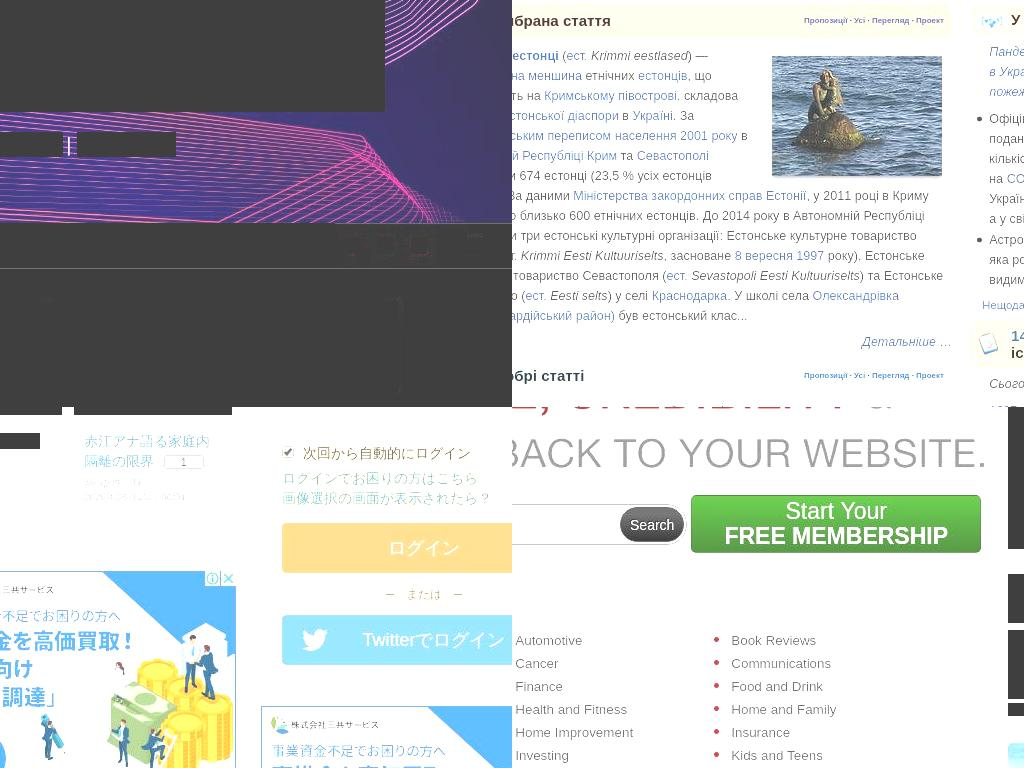button: (691, 495, 982, 554), (282, 615, 512, 665), (515, 629, 717, 653), (731, 629, 933, 653), (515, 652, 717, 676), (731, 652, 933, 676), (515, 675, 717, 699), (731, 675, 933, 699), (515, 698, 717, 722), (731, 698, 933, 722), (515, 721, 717, 745), (731, 721, 933, 745), (515, 744, 717, 768), (731, 744, 933, 768), (172, 223, 261, 268), (87, 223, 173, 268), (260, 223, 335, 268), (27, 223, 88, 268), (620, 507, 685, 543), (1008, 407, 1024, 467), (1008, 574, 1024, 623), (163, 455, 204, 471), (1008, 703, 1024, 716)
field: (282, 523, 512, 573), (284, 407, 512, 428), (512, 505, 597, 540), (282, 446, 295, 460)
heading: (512, 599, 986, 630)
iframe: (0, 571, 236, 768), (0, 301, 399, 392), (261, 706, 512, 768)
image: (0, 0, 385, 112), (772, 55, 942, 176), (1008, 407, 1024, 467), (1008, 574, 1024, 623), (977, 332, 1000, 356), (977, 13, 1007, 30), (345, 237, 362, 254), (377, 237, 394, 254), (411, 237, 427, 254), (467, 238, 483, 255), (8, 245, 16, 253), (315, 245, 323, 253)
label: (303, 445, 471, 461)
link: (512, 288, 899, 323), (84, 433, 210, 469), (573, 188, 807, 203), (512, 128, 738, 143), (282, 490, 492, 506), (282, 470, 478, 486), (77, 132, 176, 157), (544, 88, 678, 103), (512, 108, 620, 123), (512, 148, 617, 163), (862, 334, 953, 349), (651, 288, 727, 303), (636, 148, 709, 163), (512, 68, 582, 83), (734, 248, 793, 263), (637, 68, 688, 83), (512, 48, 559, 63), (0, 433, 40, 449), (632, 108, 673, 123), (982, 298, 1024, 311), (989, 65, 1024, 80), (796, 248, 825, 263), (804, 16, 847, 26), (804, 371, 847, 381), (871, 16, 909, 26), (871, 371, 909, 381), (566, 48, 589, 63), (666, 268, 689, 283), (626, 403, 709, 407), (525, 288, 547, 303), (916, 16, 945, 26), (916, 371, 945, 381), (1006, 171, 1024, 186), (854, 16, 866, 26), (854, 371, 866, 381), (989, 403, 1018, 407), (512, 248, 518, 263)
text: (512, 188, 929, 263), (512, 268, 943, 303), (512, 248, 925, 283), (512, 88, 738, 123), (512, 168, 712, 203), (512, 68, 711, 103), (724, 523, 949, 550), (282, 585, 512, 603), (512, 12, 697, 30), (512, 367, 670, 385), (785, 498, 888, 525), (989, 111, 1024, 186), (691, 268, 861, 283), (74, 476, 232, 490), (74, 490, 232, 504), (520, 248, 664, 263), (614, 308, 748, 323), (0, 132, 63, 157), (591, 48, 689, 63), (727, 288, 814, 303), (989, 171, 1024, 206), (663, 248, 735, 263), (272, 233, 313, 258), (550, 288, 609, 303), (582, 68, 639, 83), (607, 288, 652, 303), (989, 232, 1024, 247), (989, 377, 1024, 392), (672, 108, 694, 123), (687, 48, 708, 63), (617, 148, 638, 163), (618, 108, 633, 123), (737, 128, 748, 143), (558, 48, 566, 63), (709, 403, 733, 407), (607, 403, 628, 407), (847, 16, 855, 26), (865, 16, 873, 26), (909, 16, 917, 26), (847, 371, 855, 381), (865, 371, 873, 381), (909, 371, 917, 381)
